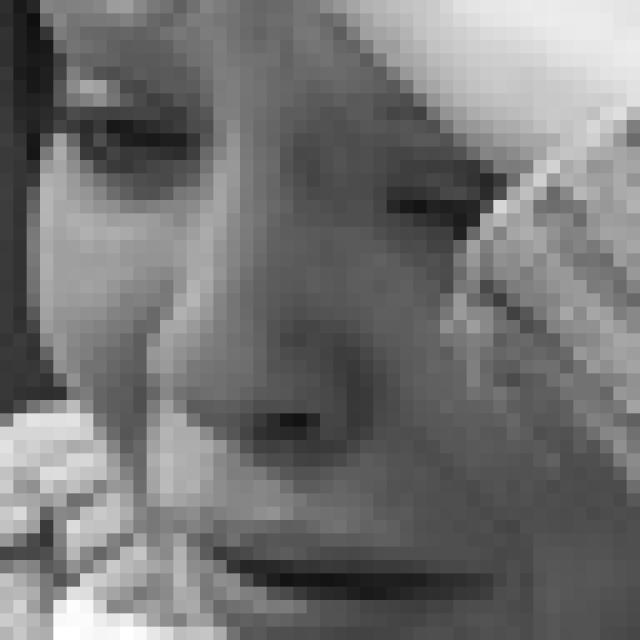sad: (54, 30, 519, 640)
